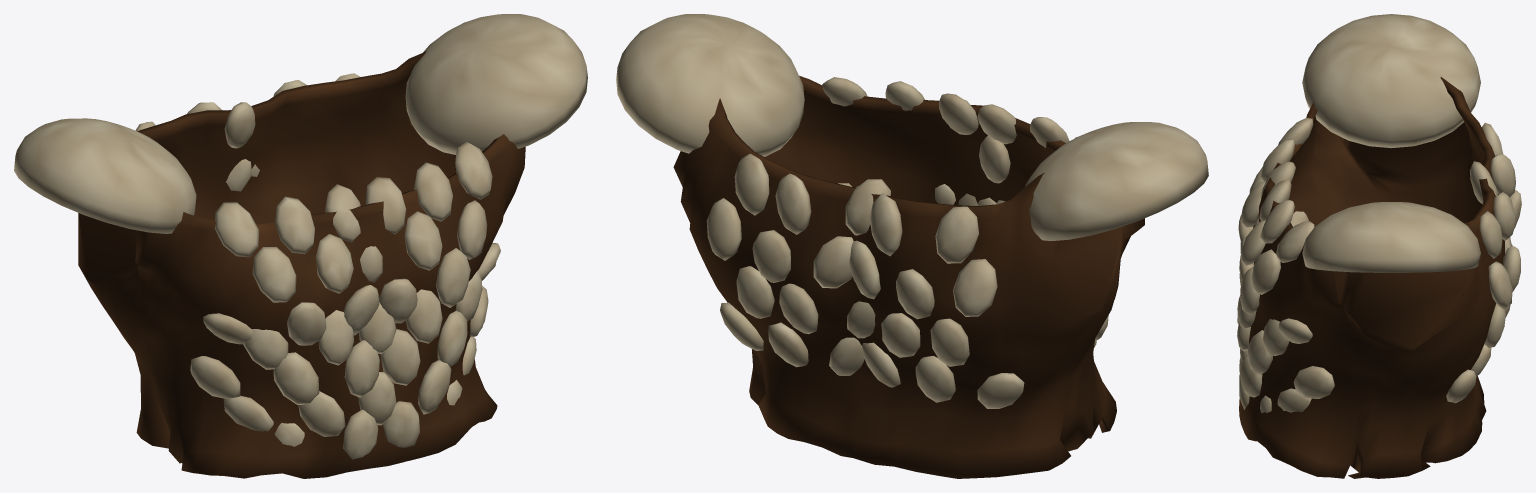
File: bone_mail.glb
The picture shows the model from 3 angles, left to right: view 1: azimuth 30°, elevation 25°; view 2: azimuth 150°, elevation 25°; view 3: azimuth 270°, elevation 25°; orthographic projection. The views are drawn at different scales.
Visible parts, largest first — view 1: bone_mail; view 2: bone_mail; view 3: bone_mail.
Part boxes in pixels (x1,y1,x2,y2): bone_mail: (14, 14, 587, 478); bone_mail: (616, 14, 1208, 478); bone_mail: (1237, 14, 1521, 478).
Bounding box in the file's own units: 0.3286 × 0.1936 × 0.1666.
